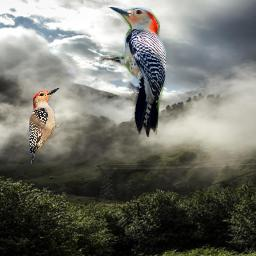Woodpecker: (99, 7, 166, 137), (29, 87, 60, 164)
